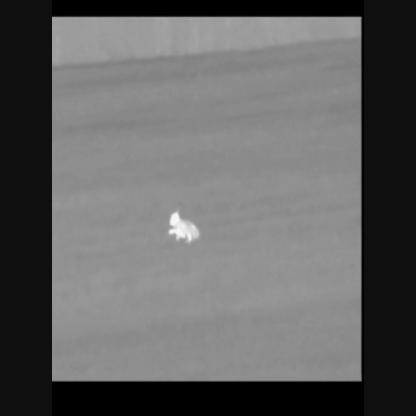rehkitze: (166, 211, 202, 245)
